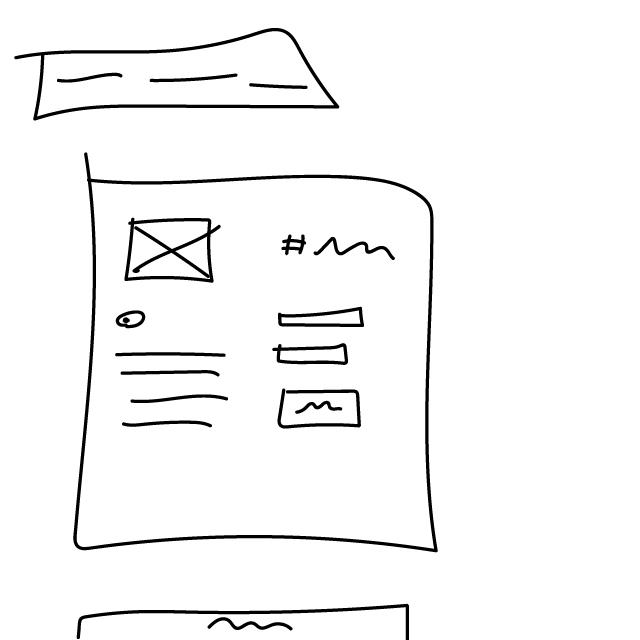buttonrotation: (273, 384, 370, 435)
checkboxrotation: (113, 308, 151, 331)
containerrotation: (56, 148, 465, 572)
footerrotation: (74, 593, 428, 640)
framerotation: (123, 217, 223, 286)
headingrotation: (277, 227, 397, 266)
inputrotation: (276, 304, 367, 332), (271, 341, 357, 369)
navrotation: (13, 28, 347, 123)
textrotation: (103, 346, 241, 438)
